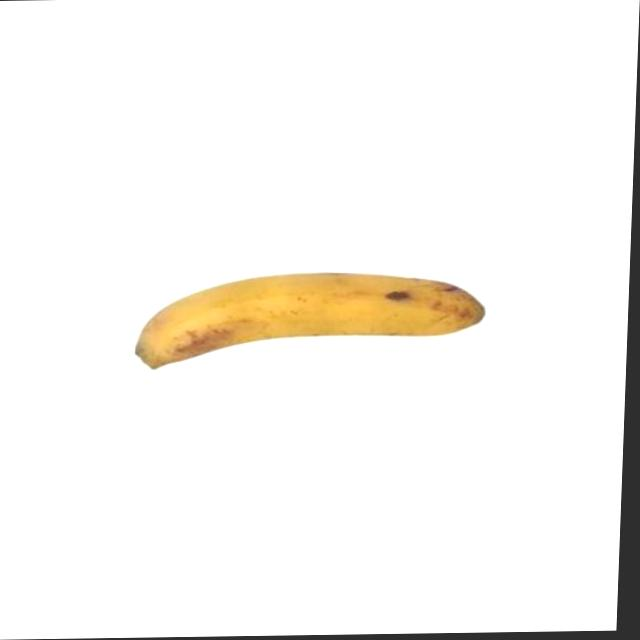banana: (134, 265, 483, 373)
